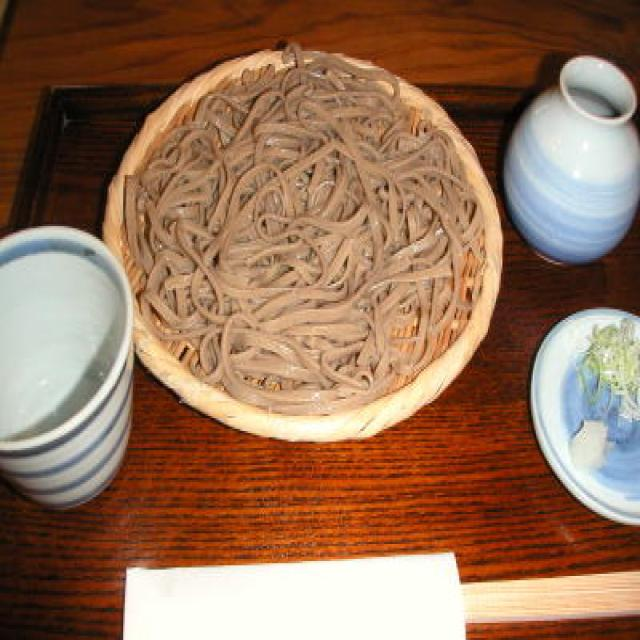面条主食: (86, 28, 514, 437)
